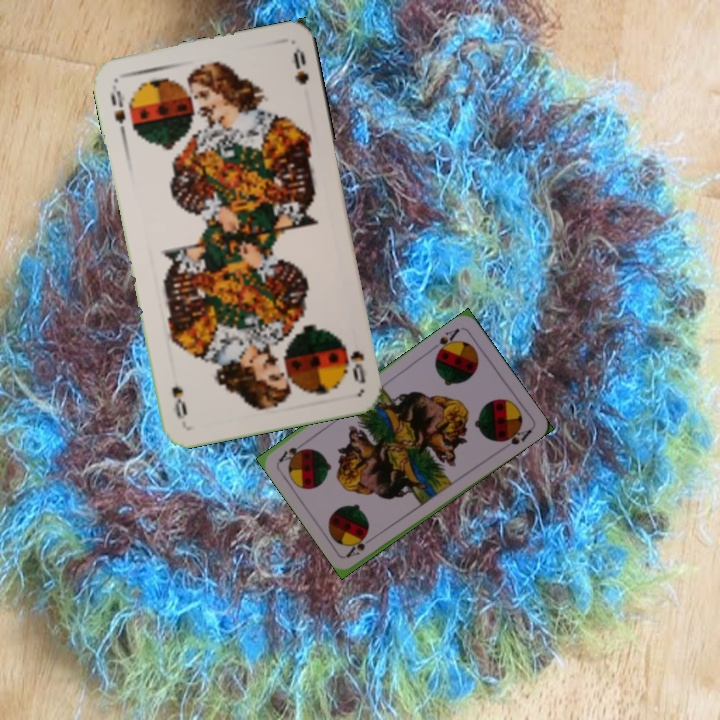SA: (428, 324, 462, 358), (343, 531, 379, 560)
SO: (340, 340, 369, 386), (106, 80, 128, 139)
